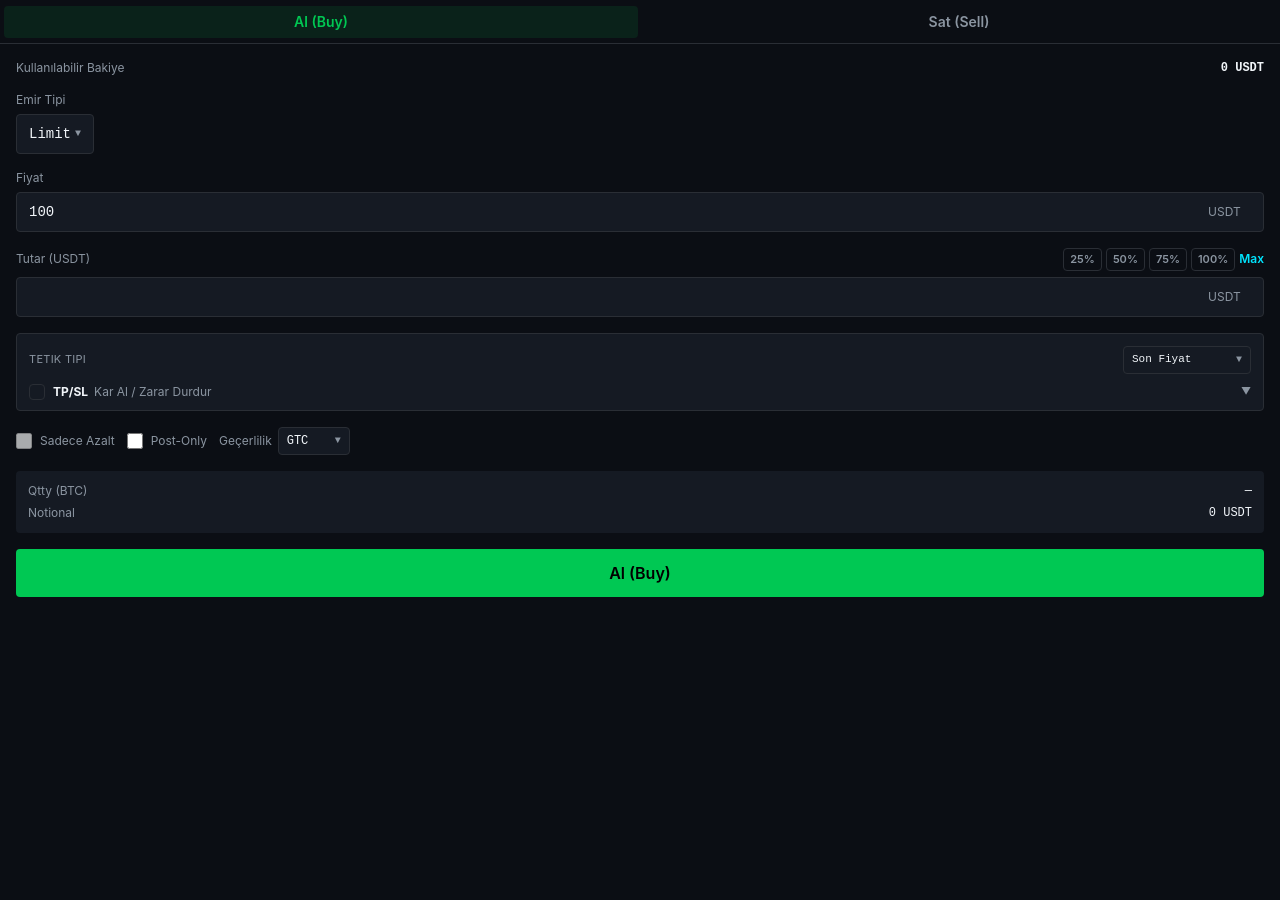
TradingPanel spot mode › rejects a sell beyond the held coin amount
This screenshot has width=1280, height=900.
Click the button "Sat (Sell)" at (959, 22), box [642,6,1276,38]
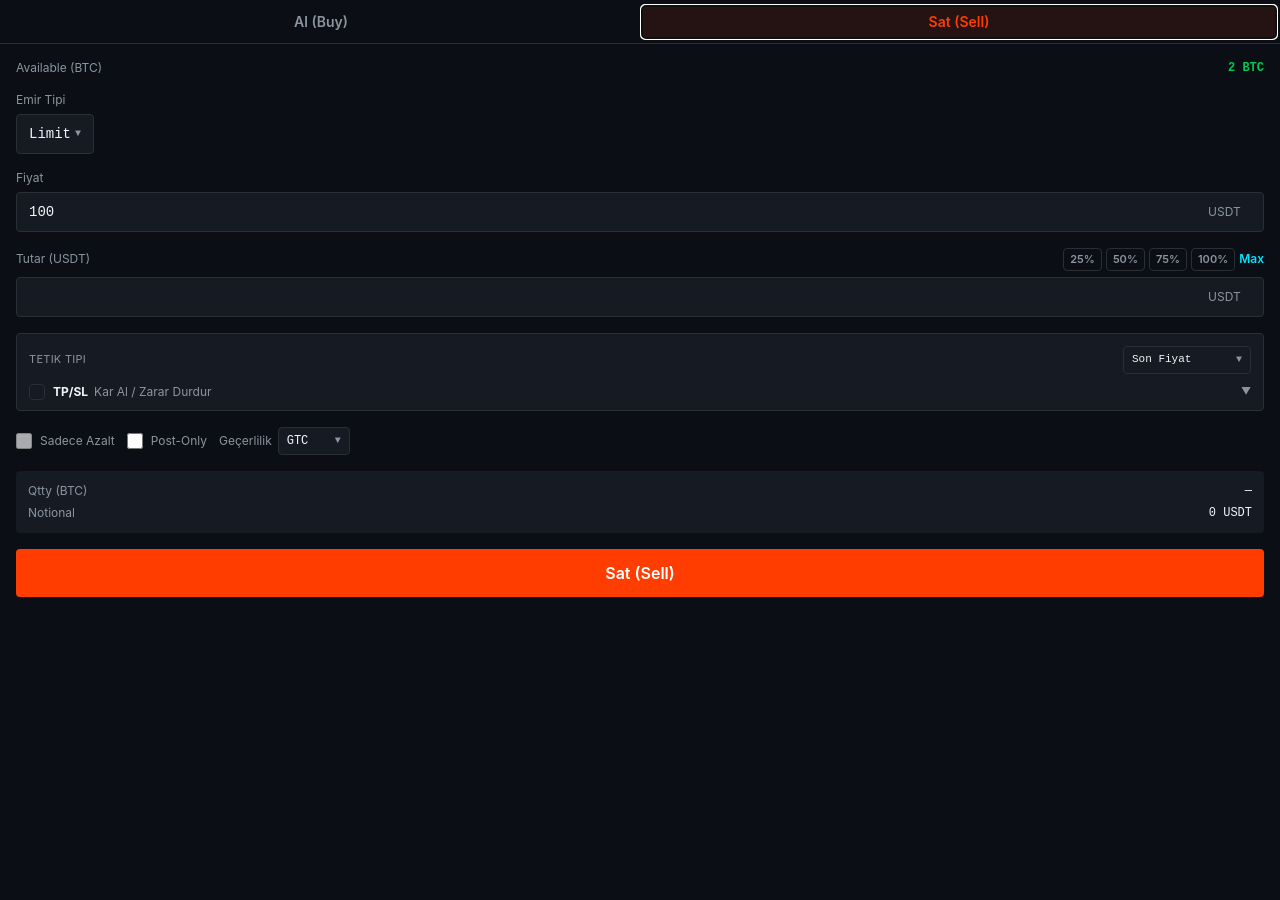
Type "500" into the field named "Order amount" at (640, 296), box [16,276,1264,316]
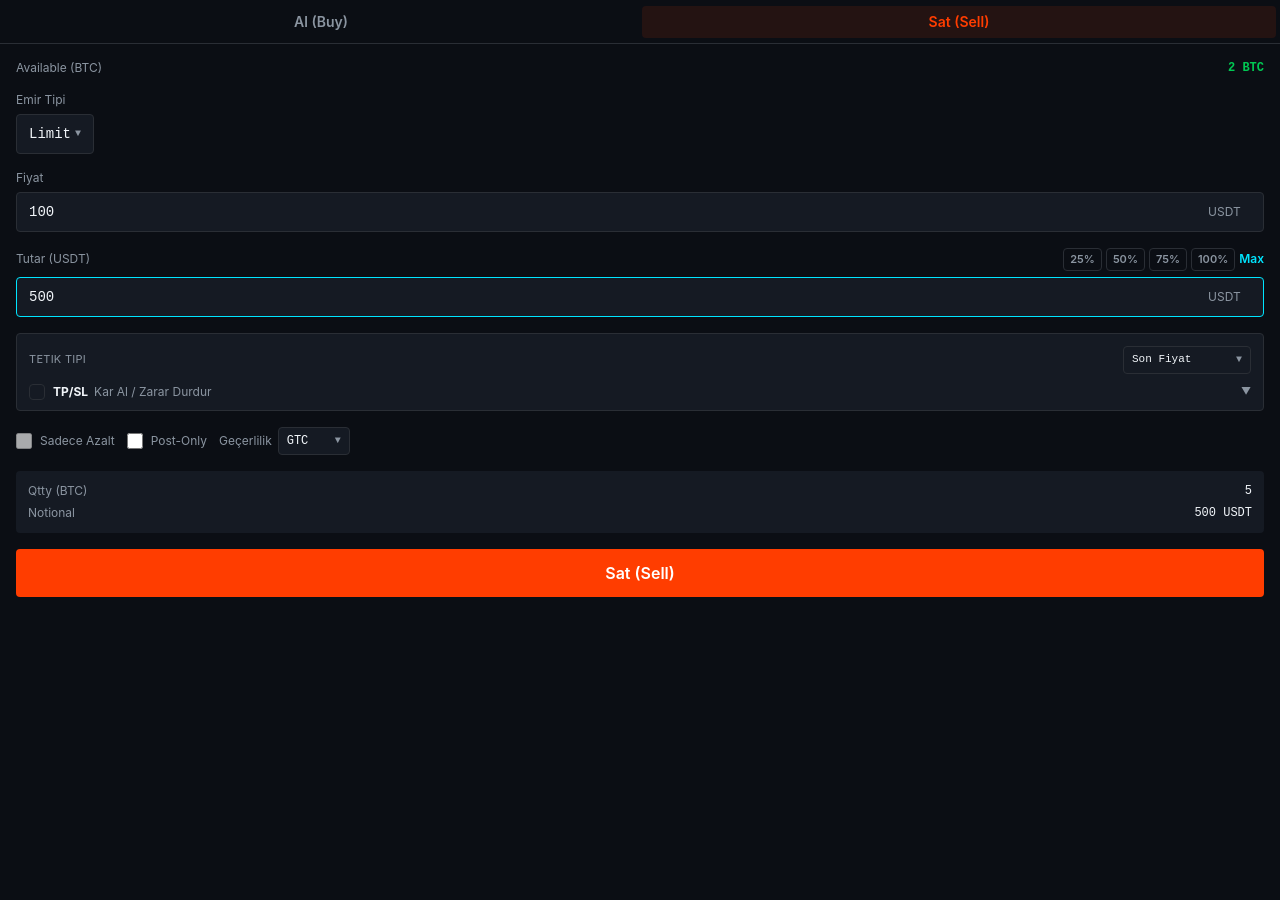
Click the button "Sat (Sell)" below "Notional" at (640, 572), box [16,548,1264,596]
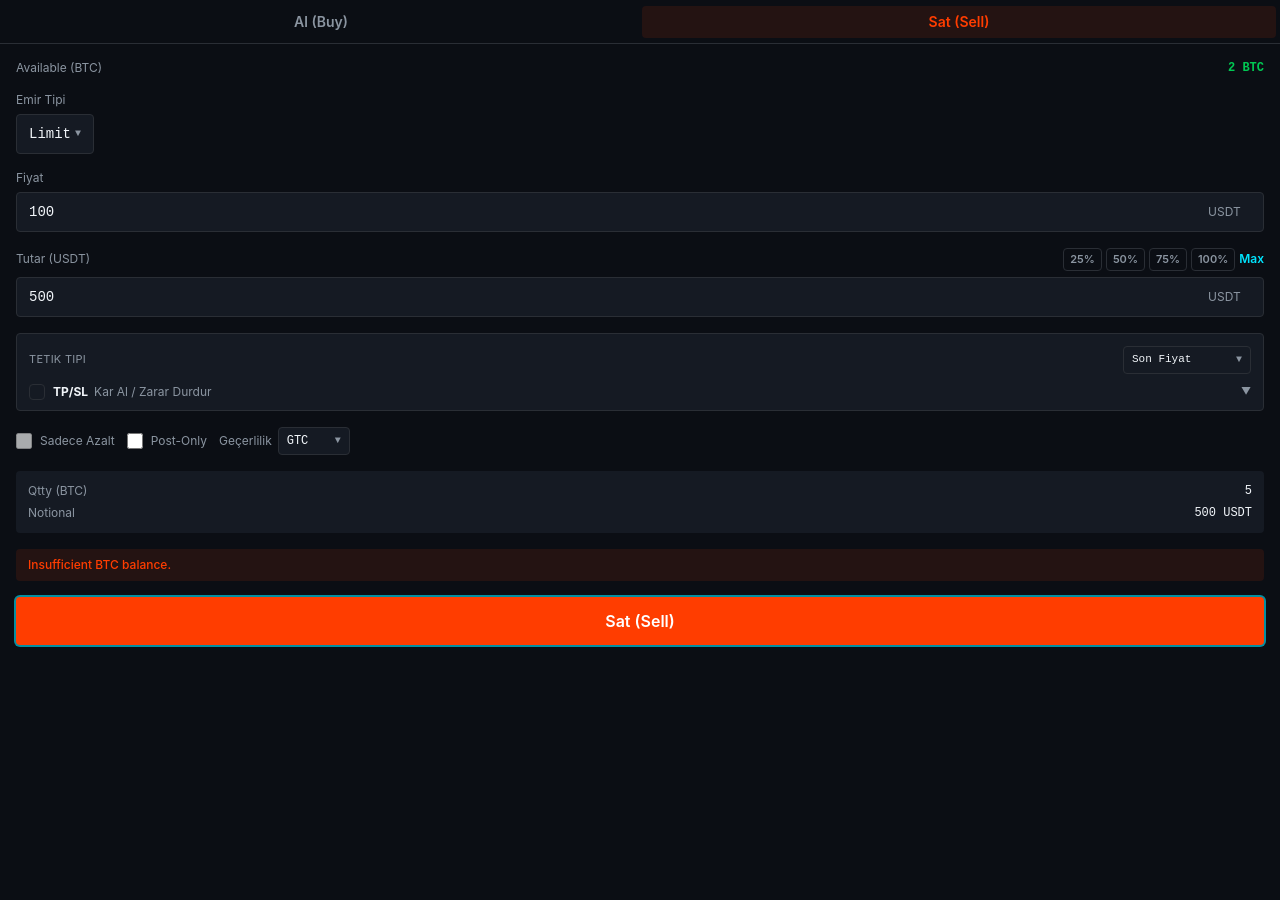
Result: the text "Insufficient BTC balance." is shown at [16,548,1264,580]
